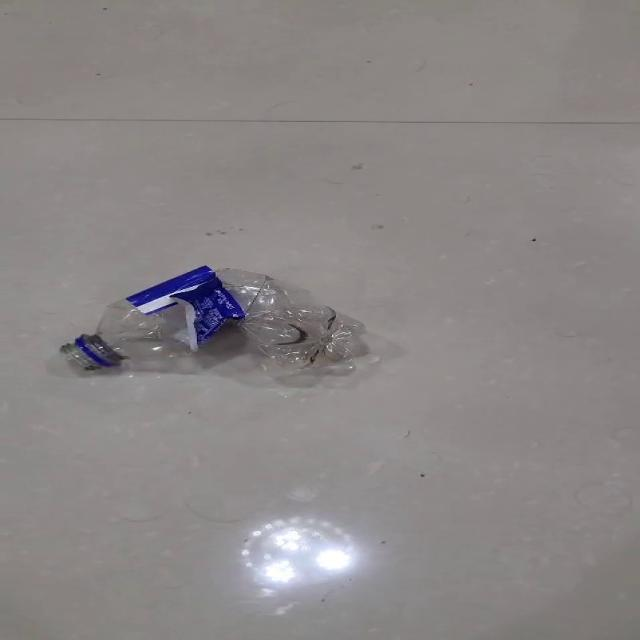plastic: (59, 264, 371, 379)
